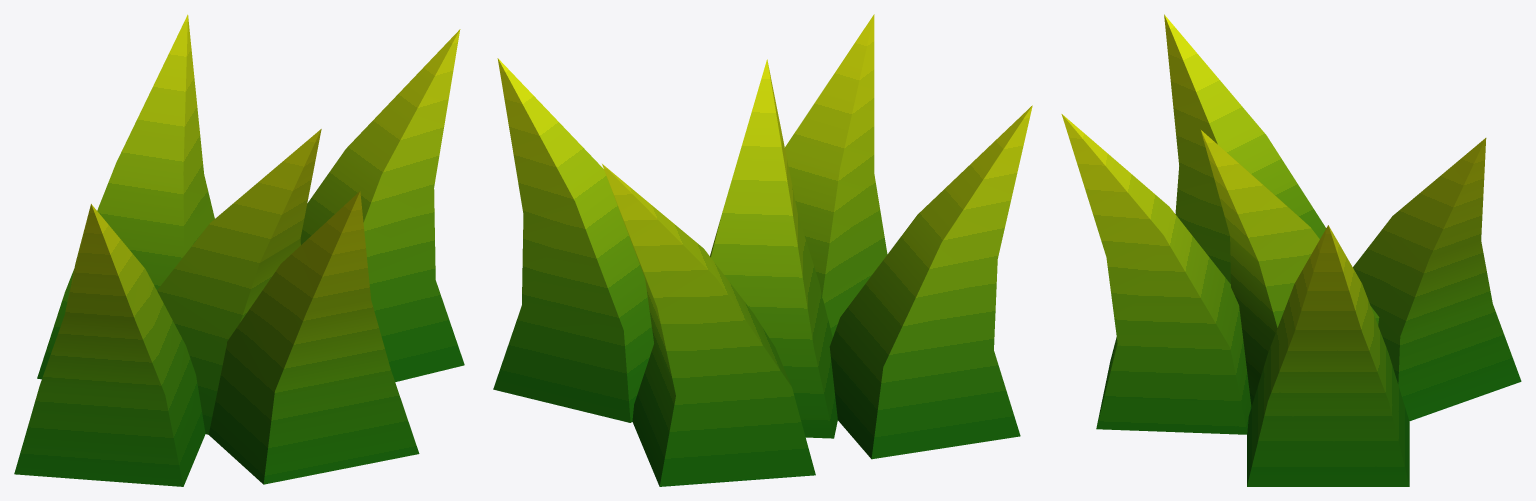
The model's file is grass1.FBX.
3 views of the same model, side by side, from view 1: azimuth 30°, elevation 25°; view 2: azimuth 150°, elevation 25°; view 3: azimuth 270°, elevation 25° (orthographic). The views are drawn at different scales.
Parts seen in each view (by area): view 1: grass1; view 2: grass1; view 3: grass1.
Part boxes in pixels (box(x1,y1,x2,y2)): grass1: box(14, 14, 464, 486); grass1: box(493, 14, 1032, 486); grass1: box(1061, 14, 1521, 486).
Size of the model in its own units: 8.14 by 4.71 by 7.01.
